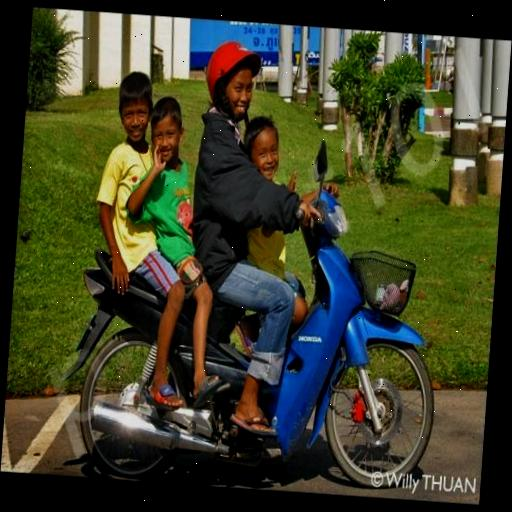helmet: (200, 31, 287, 132)
triple riding: (54, 23, 466, 494)
